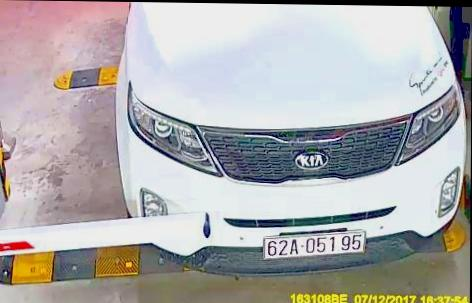License_Plate: (258, 234, 372, 262)
